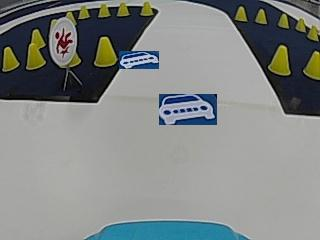cone: (93, 36, 118, 69), (268, 44, 290, 76), (304, 49, 319, 83), (27, 44, 42, 70), (2, 47, 17, 72), (232, 5, 249, 24), (76, 3, 90, 21), (31, 28, 43, 48), (256, 8, 268, 25), (97, 1, 108, 19), (117, 2, 130, 17), (142, 1, 154, 17), (279, 13, 290, 29), (296, 15, 305, 33)
tumble: (52, 20, 76, 57)
